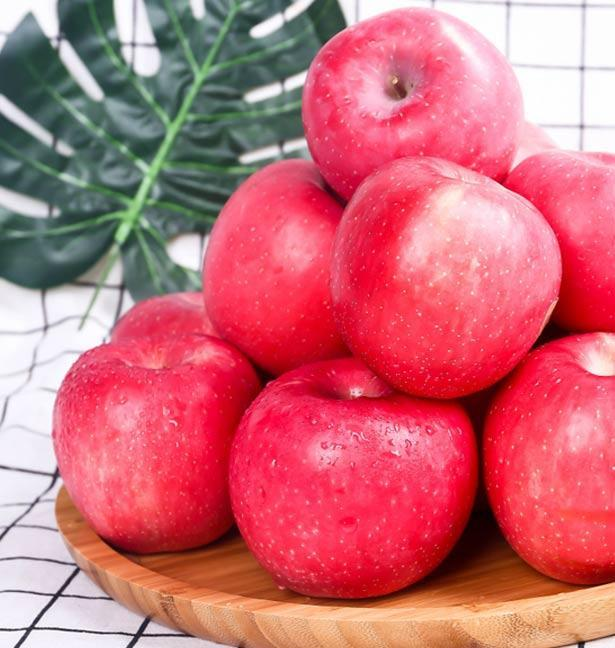apple: (225, 357, 478, 597), (334, 154, 562, 400), (49, 333, 261, 557), (303, 8, 522, 201), (482, 334, 615, 588), (200, 159, 353, 374), (500, 149, 615, 328)
